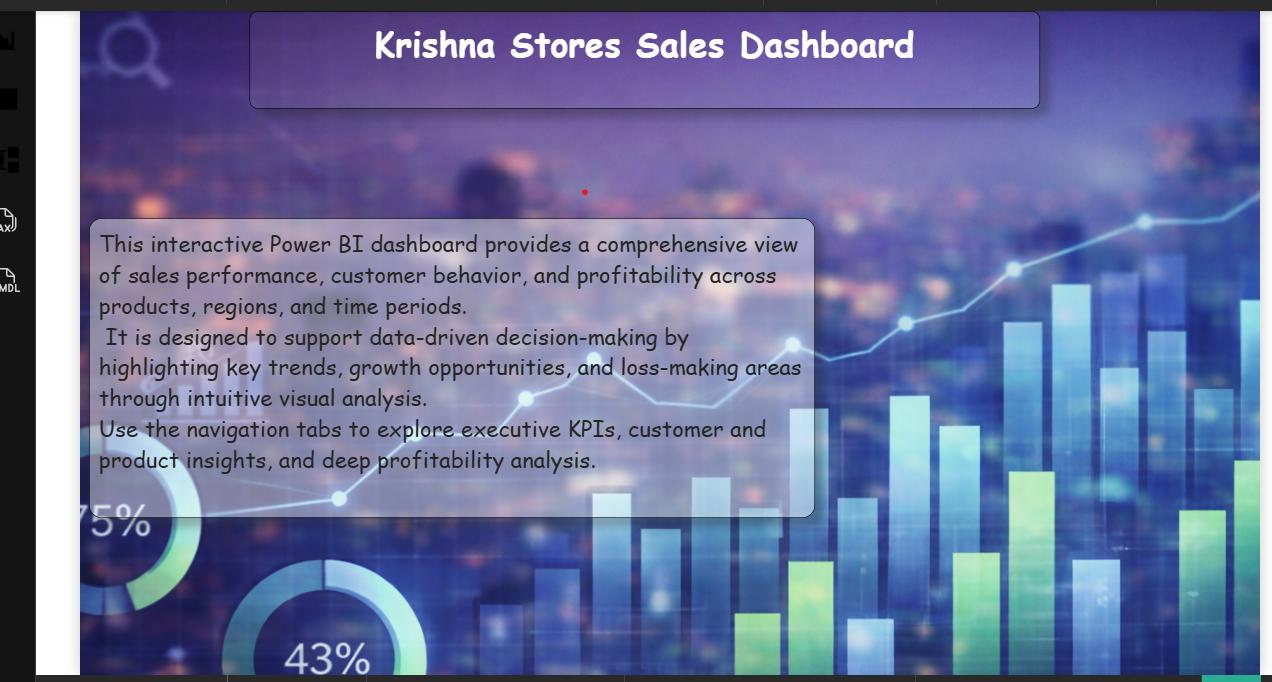

Layout of this report page (visuals, bound fields, positions):
{"tool":"powerbi","page":{"name":"OverView","canvas":[1280,720],"ordinal":0},"visuals":[{"type":"textbox","box":[9.8,224.5,787.2,325.3],"z":0},{"type":"textbox","box":[183.8,0,857.2,105.7],"z":1000}]}

Visuals, with their boxes on the page's 1280x720 design canvas (x1, y1, x2, y2). These are canvas units, not pixel positions in the 1272x682 screenshot, which may show the page scaled, cropped or inside an application window:
textbox: <bbox>10, 224, 797, 550</bbox>
textbox: <bbox>184, 0, 1041, 106</bbox>
